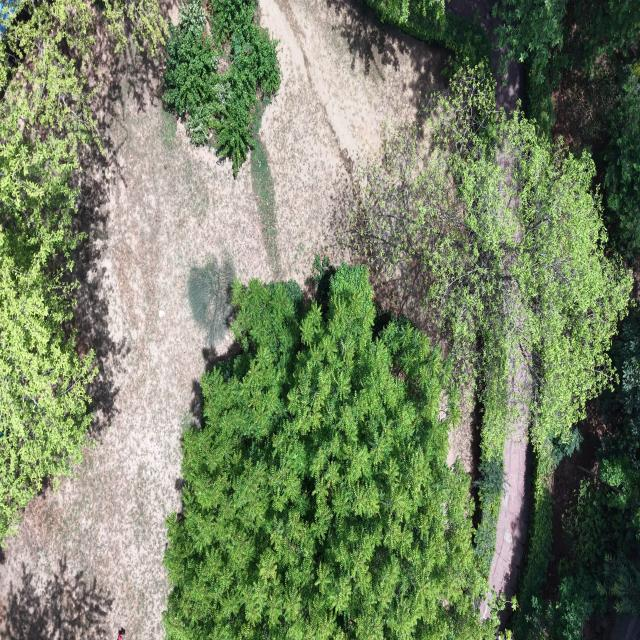DRY_AREA: (0, 0, 445, 639), (0, 77, 270, 638), (260, 0, 445, 259), (260, 0, 445, 159), (263, 0, 441, 159), (276, 0, 447, 162), (488, 290, 534, 623), (489, 335, 534, 623), (544, 399, 610, 594), (489, 345, 533, 624), (489, 363, 532, 621), (489, 353, 532, 601), (489, 363, 531, 600), (446, 0, 524, 112), (489, 398, 530, 598), (489, 403, 531, 598), (489, 412, 531, 599), (490, 426, 530, 595), (552, 68, 616, 157), (447, 374, 479, 477), (611, 615, 639, 639)
PATHWAYS: (489, 362, 530, 599)
VEGETATION_TREE: (165, 0, 639, 639), (351, 0, 639, 638), (368, 0, 639, 638), (352, 68, 630, 608), (164, 265, 494, 639), (352, 67, 630, 445), (351, 67, 515, 574), (0, 0, 99, 540), (0, 3, 94, 538), (521, 310, 639, 639), (497, 0, 639, 266), (494, 0, 639, 257), (493, 0, 639, 251), (0, 159, 95, 538), (552, 0, 639, 259), (163, 0, 280, 174), (0, 0, 99, 198), (494, 0, 639, 134), (519, 477, 635, 639), (493, 0, 567, 135), (493, 0, 566, 134), (366, 0, 491, 72), (164, 2, 224, 144), (605, 63, 639, 255), (494, 0, 566, 82), (560, 0, 639, 74), (520, 566, 594, 639), (474, 424, 505, 575), (604, 309, 639, 439), (187, 256, 234, 347), (99, 0, 166, 53), (597, 552, 639, 616), (369, 0, 445, 26), (256, 100, 268, 130)
